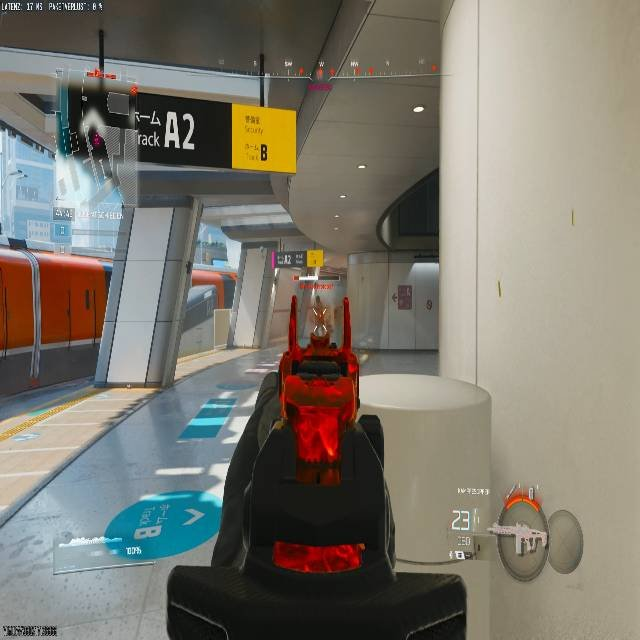player: (76, 107, 109, 161), (311, 297, 328, 334)
